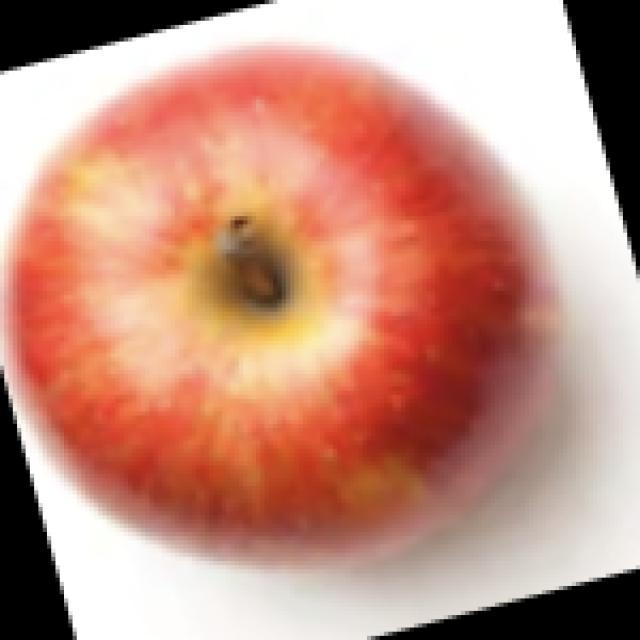Apple: (6, 40, 561, 570)
